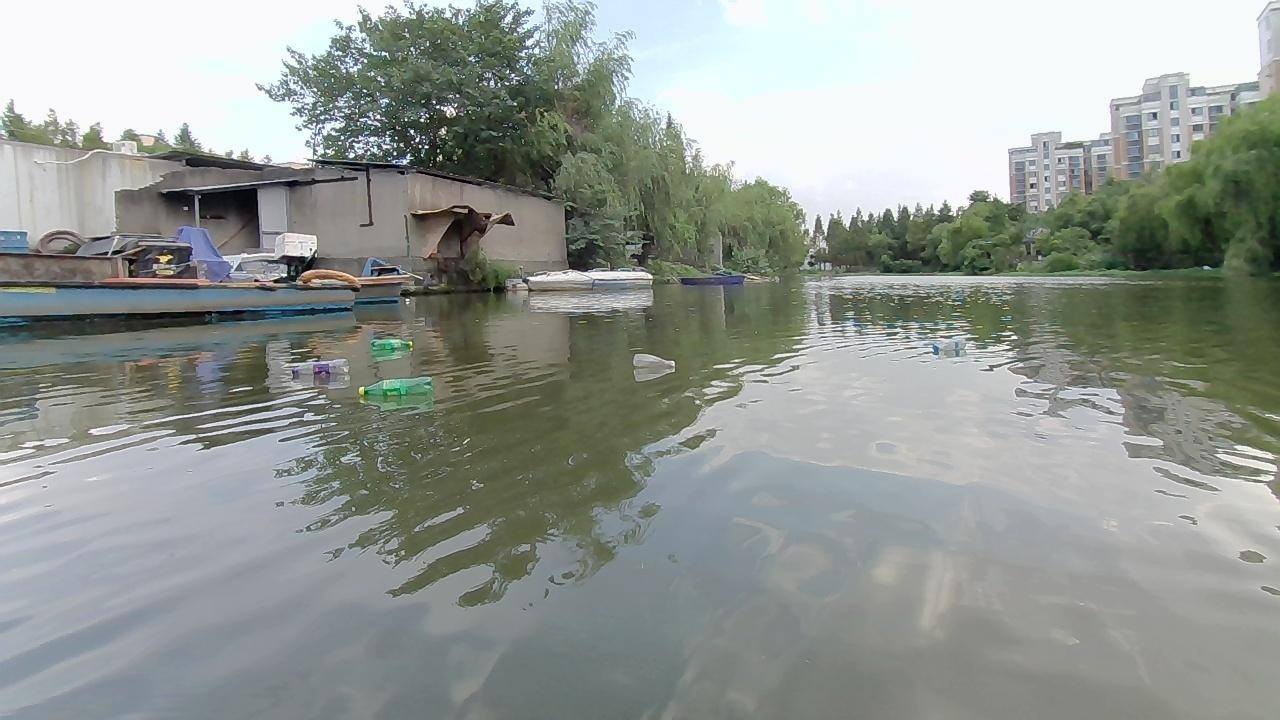bottle: (356, 377, 436, 398), (288, 358, 348, 379), (631, 352, 676, 376), (369, 337, 415, 355), (933, 335, 968, 357)
